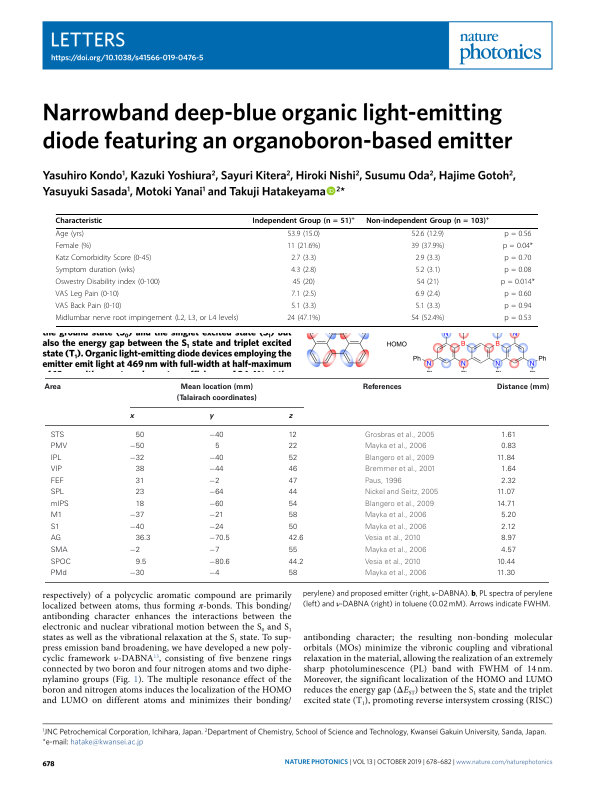borderless: (44, 377, 549, 582), (54, 213, 538, 326)
cell: (55, 314, 239, 323), (176, 383, 258, 403), (365, 215, 490, 226), (252, 215, 356, 226), (55, 278, 161, 288), (55, 254, 152, 264), (55, 266, 136, 276), (364, 488, 439, 497), (364, 466, 436, 475), (364, 431, 435, 440), (364, 454, 435, 463), (364, 500, 435, 509), (55, 302, 122, 311), (55, 290, 120, 299), (364, 523, 427, 532), (364, 546, 427, 555), (364, 569, 427, 578), (364, 535, 421, 544), (364, 558, 421, 567), (364, 443, 427, 451), (364, 512, 427, 520), (55, 217, 103, 226), (496, 383, 550, 391), (55, 242, 92, 252), (500, 278, 536, 288), (364, 477, 403, 486), (286, 230, 321, 240), (286, 242, 321, 252), (410, 242, 445, 252), (411, 230, 445, 240), (362, 383, 403, 391), (502, 242, 534, 252), (286, 314, 321, 323), (410, 314, 445, 323), (55, 230, 85, 240), (503, 230, 532, 240), (503, 254, 532, 264), (503, 266, 532, 276), (290, 254, 317, 264), (414, 254, 441, 264), (290, 266, 317, 276), (414, 266, 441, 276), (503, 290, 532, 299), (503, 302, 532, 311), (503, 314, 532, 323), (290, 290, 317, 299), (414, 290, 441, 299), (290, 302, 317, 311), (414, 302, 441, 311), (292, 278, 316, 288), (416, 278, 440, 288), (208, 535, 231, 544), (208, 558, 231, 567), (50, 558, 72, 567), (496, 454, 516, 463), (496, 488, 516, 497), (50, 500, 70, 509), (496, 500, 516, 509), (496, 558, 516, 567), (496, 569, 516, 578), (50, 546, 68, 555), (50, 569, 68, 578), (208, 431, 225, 440), (500, 431, 517, 440), (208, 454, 225, 463), (208, 466, 225, 475), (500, 466, 517, 475), (500, 477, 517, 486), (208, 488, 225, 497), (208, 500, 225, 509), (208, 512, 225, 521), (208, 523, 225, 532), (500, 535, 517, 544), (500, 546, 517, 555), (43, 383, 62, 391), (50, 443, 68, 451), (129, 454, 145, 463), (129, 512, 145, 521), (129, 523, 145, 532), (500, 523, 516, 532), (135, 535, 151, 544), (288, 535, 304, 544), (288, 558, 304, 567), (129, 569, 145, 578), (500, 443, 517, 451), (500, 512, 517, 520), (50, 431, 65, 440), (50, 477, 65, 486), (50, 488, 65, 497), (129, 443, 145, 451), (50, 454, 63, 463), (50, 466, 63, 475), (50, 512, 63, 521), (208, 477, 220, 486), (50, 535, 62, 544), (129, 546, 141, 555), (208, 546, 220, 555), (135, 558, 147, 567), (208, 569, 220, 578), (135, 431, 145, 440), (288, 431, 298, 440), (288, 454, 298, 463), (135, 466, 145, 475), (288, 466, 298, 475), (135, 477, 145, 486), (288, 477, 298, 486), (135, 488, 145, 497), (288, 488, 298, 497), (135, 500, 145, 509), (288, 500, 298, 509), (288, 512, 298, 521), (50, 523, 60, 532), (288, 523, 298, 532), (288, 546, 298, 555), (288, 569, 298, 578), (288, 443, 298, 451), (214, 443, 220, 451), (129, 414, 135, 421), (208, 414, 214, 421), (288, 414, 293, 421)
